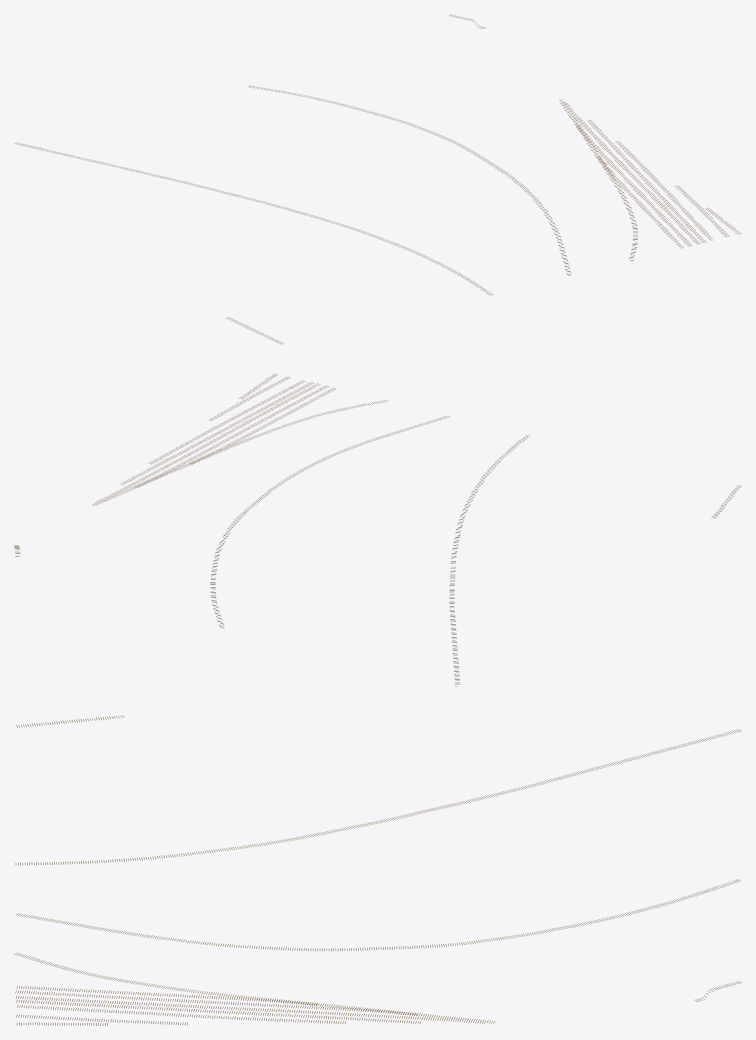
Rendered from c_1630_17824_rail_sleeper.glb.
3 views of the same model, one above another, from view 1: azimuth 30°, elevation 25°; view 2: azimuth 150°, elevation 25°; view 3: azimuth 270°, elevation 25° (orthographic). The views are drawn at different scales.
Parts seen in each view (by area): view 1: geometry_0; view 2: geometry_0; view 3: geometry_0.
Boxes of the visible parts, x1=… form: geometry_0: x1=14, y1=14, x2=741, y2=344; geometry_0: x1=14, y1=373, x2=741, y2=686; geometry_0: x1=14, y1=715, x2=741, y2=1025.
Size of the model in its own units: 258 by 12.26 by 257.
